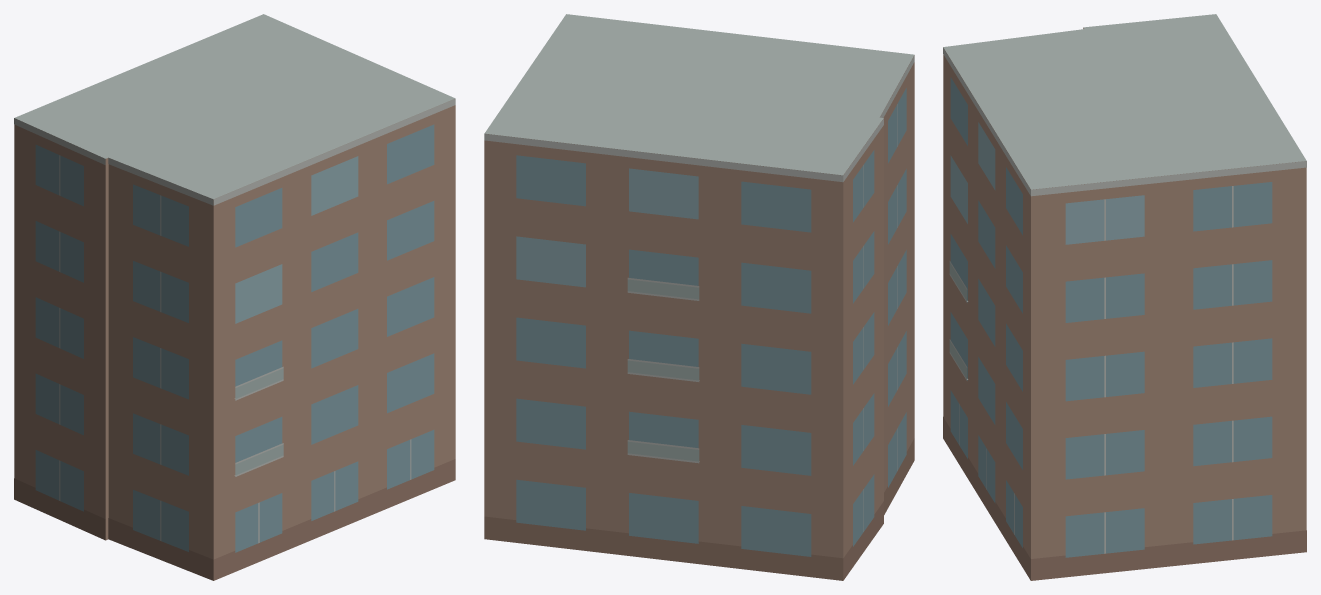
File: survey-upis-32720492.glb
3 views of the same model, side by side, from view 1: azimuth 30°, elevation 25°; view 2: azimuth 150°, elevation 25°; view 3: azimuth 270°, elevation 25° (orthographic). The views are drawn at different scales.
Visible parts, largest first — view 1: survey-upis-32720492.tmp; view 2: survey-upis-32720492.tmp; view 3: survey-upis-32720492.tmp.
Part boxes in pixels (left/top/right/bottom): survey-upis-32720492.tmp: left=14, top=14, right=455, bottom=580; survey-upis-32720492.tmp: left=484, top=14, right=914, bottom=580; survey-upis-32720492.tmp: left=943, top=14, right=1306, bottom=580.
Size of the model in its own units: 13.87 by 14.4 by 12.14.
